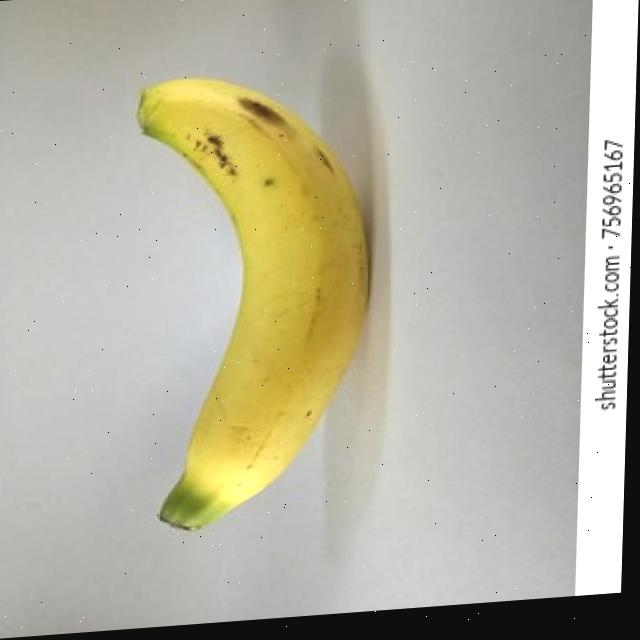banana: (120, 58, 381, 542)
